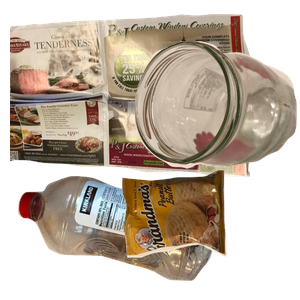glass: (132, 38, 300, 199)
paper: (10, 11, 250, 180)
plastic: (15, 173, 222, 300)
trash: (120, 168, 300, 300)
